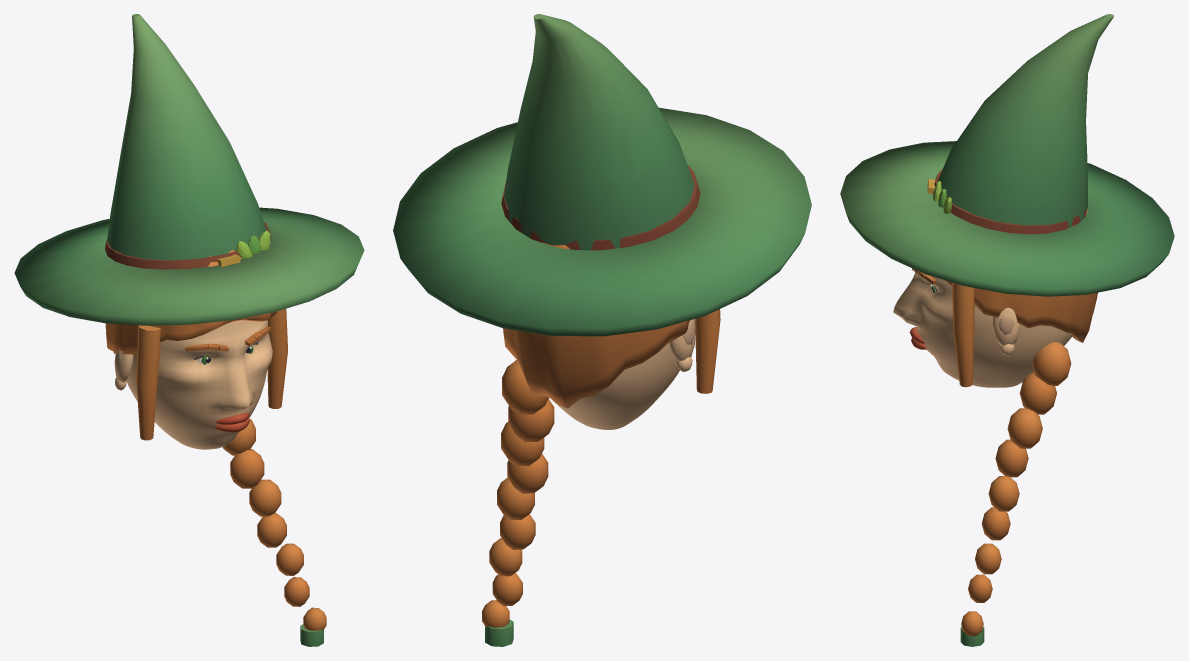
The model's file is merchant_selma_head.glb.
3 renders of one model, left to right at view 1: azimuth 30°, elevation 25°; view 2: azimuth 150°, elevation 25°; view 3: azimuth 270°, elevation 25°, orthographic. The views are drawn at different scales.
Parts seen in each view (by area): view 1: merchant_selma_head; view 2: merchant_selma_head; view 3: merchant_selma_head.
Part boxes in pixels (<box>): merchant_selma_head: <box>14,14,364,646</box>; merchant_selma_head: <box>393,14,811,646</box>; merchant_selma_head: <box>840,14,1174,646</box>.
Bounding box in the file's own units: 1.23 × 2.32 × 1.22.
Materials: 1 (1 with a texture image).
